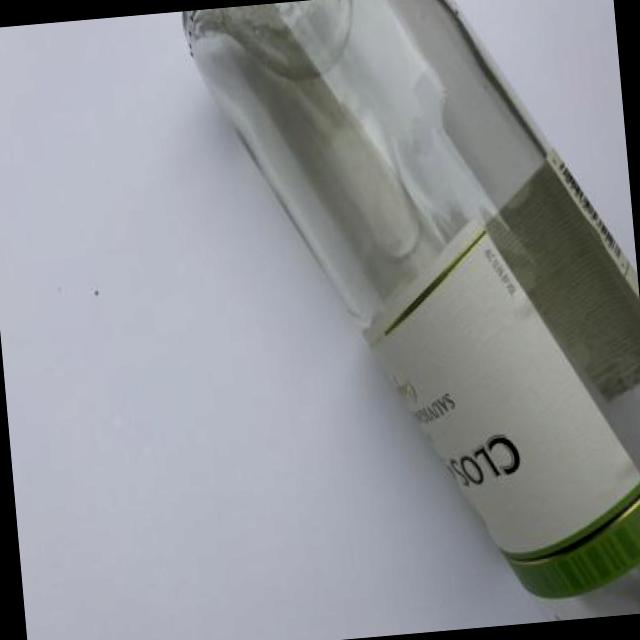chai_thuy_tinh: (183, 0, 640, 611)
